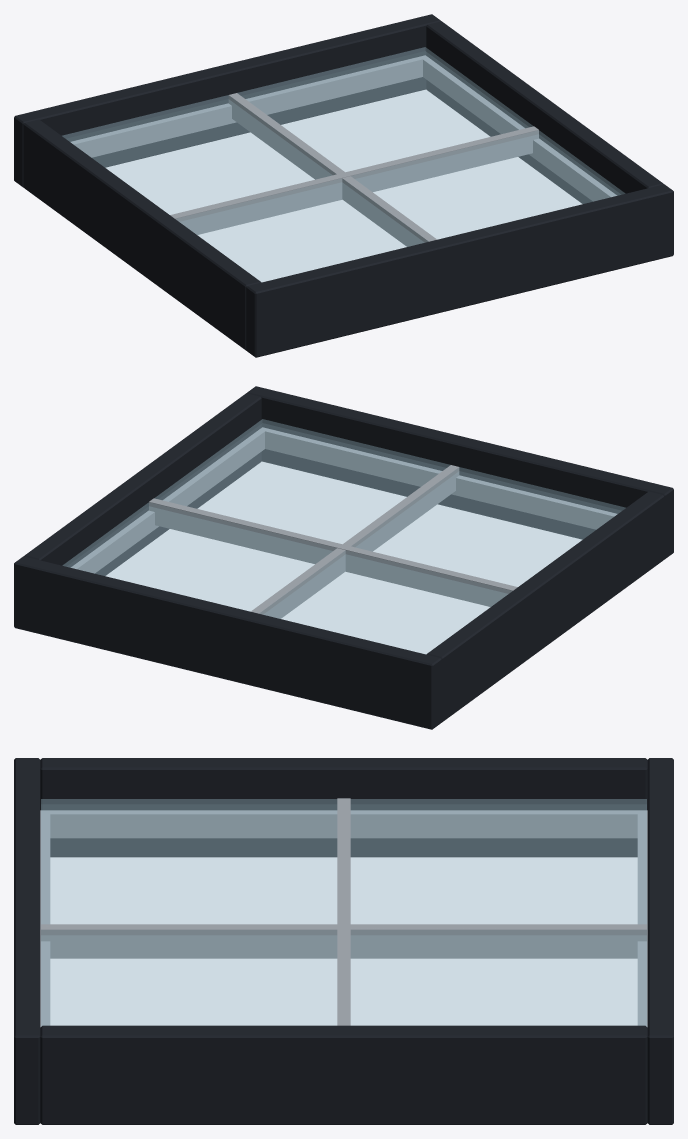
The model's file is skylight.glb.
The picture shows the model from 3 angles, top to bottom: view 1: azimuth 30°, elevation 25°; view 2: azimuth 150°, elevation 25°; view 3: azimuth 270°, elevation 25°; orthographic projection. The views are drawn at different scales.
Parts seen in each view (by area): view 1: skylight; view 2: skylight; view 3: skylight.
Part boxes in pixels (box(x1,y1,x2,y2)): skylight: box(14, 14, 673, 357); skylight: box(14, 386, 673, 729); skylight: box(14, 758, 673, 1124).
Size of the model in its own units: 2 by 0.3 by 2.
